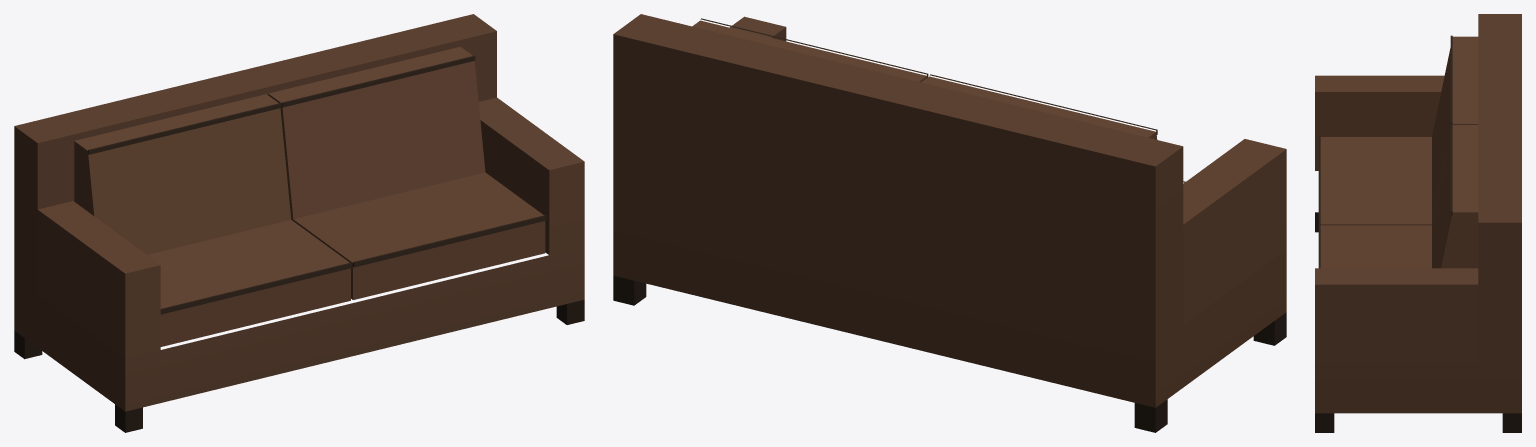
The model's file is sofa.two_seat.leather.glb.
3 views of the same model, side by side, from view 1: azimuth 30°, elevation 25°; view 2: azimuth 150°, elevation 25°; view 3: azimuth 270°, elevation 25° (orthographic). The views are drawn at different scales.
Visible parts, largest first — view 1: sofa_two_seat_leather; view 2: sofa_two_seat_leather; view 3: sofa_two_seat_leather.
Boxes of the visible parts, <box> form: sofa_two_seat_leather: <box>14,14,584,432</box>; sofa_two_seat_leather: <box>613,14,1286,432</box>; sofa_two_seat_leather: <box>1315,14,1521,432</box>.
Size of what is drawn, in the model's own units: 1.81 by 0.85 by 0.758.
